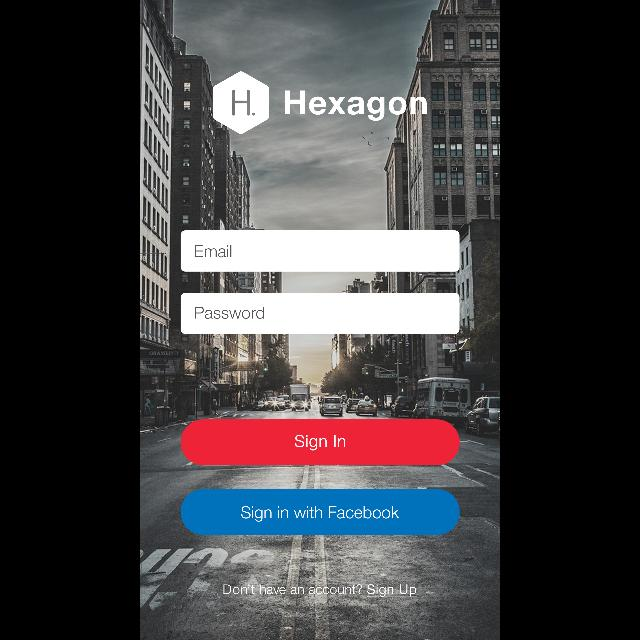backgroundimage: (140, 1, 500, 640)
image: (213, 72, 269, 134)
input: (180, 230, 460, 272), (180, 294, 460, 334)
text: (285, 90, 427, 122), (223, 584, 417, 596), (196, 307, 264, 319), (195, 246, 232, 258)
textbutton: (180, 419, 460, 465), (180, 489, 460, 535)
